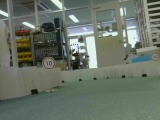speed_10: (41, 55, 56, 71)
